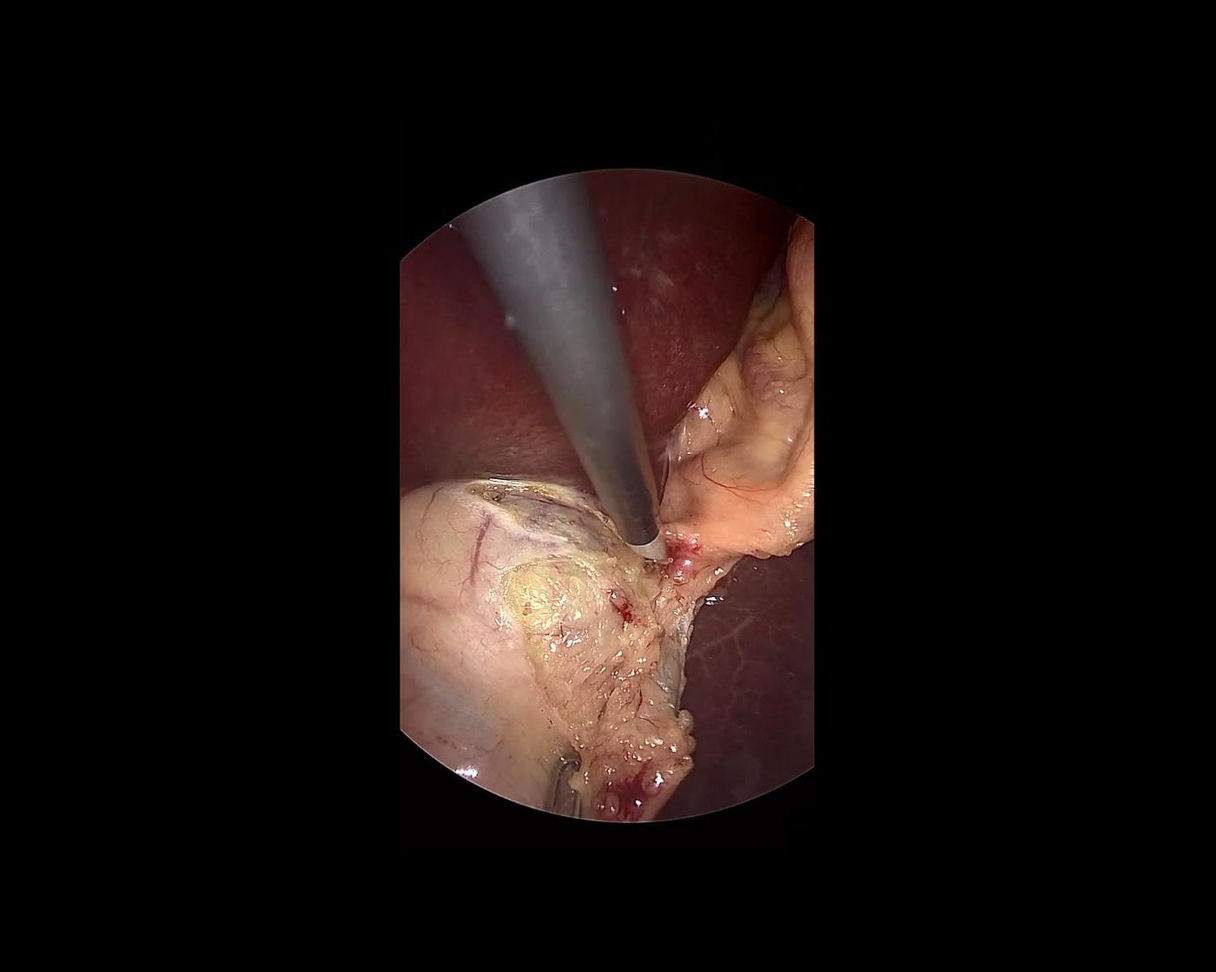Cautery: (450, 168, 673, 592)
Gallbladder: (403, 478, 684, 821)
Liver: (402, 172, 788, 498), (653, 539, 815, 821)
